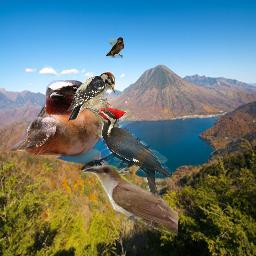Cuckoo: (81, 165, 178, 236)
Swallow: (11, 80, 119, 170), (106, 37, 124, 58)
Woodpecker: (84, 106, 171, 213), (63, 71, 115, 123)
